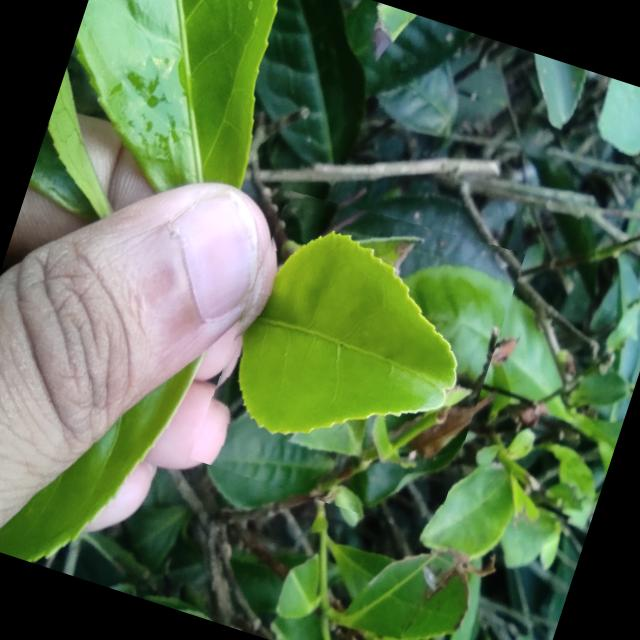Category C(4-7 days): (188, 173, 525, 538)
